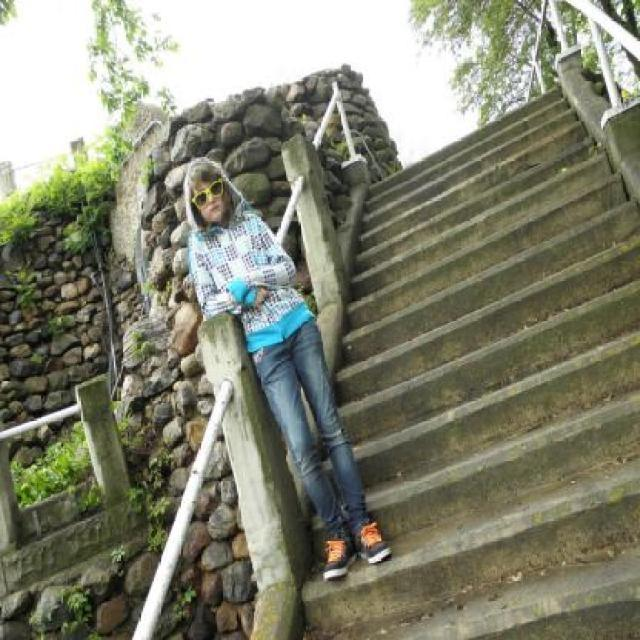stair: (291, 84, 640, 640)
